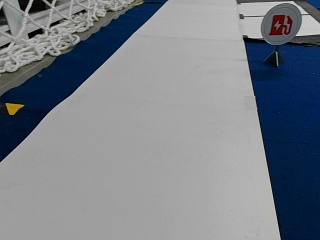battery: (260, 2, 302, 45)
